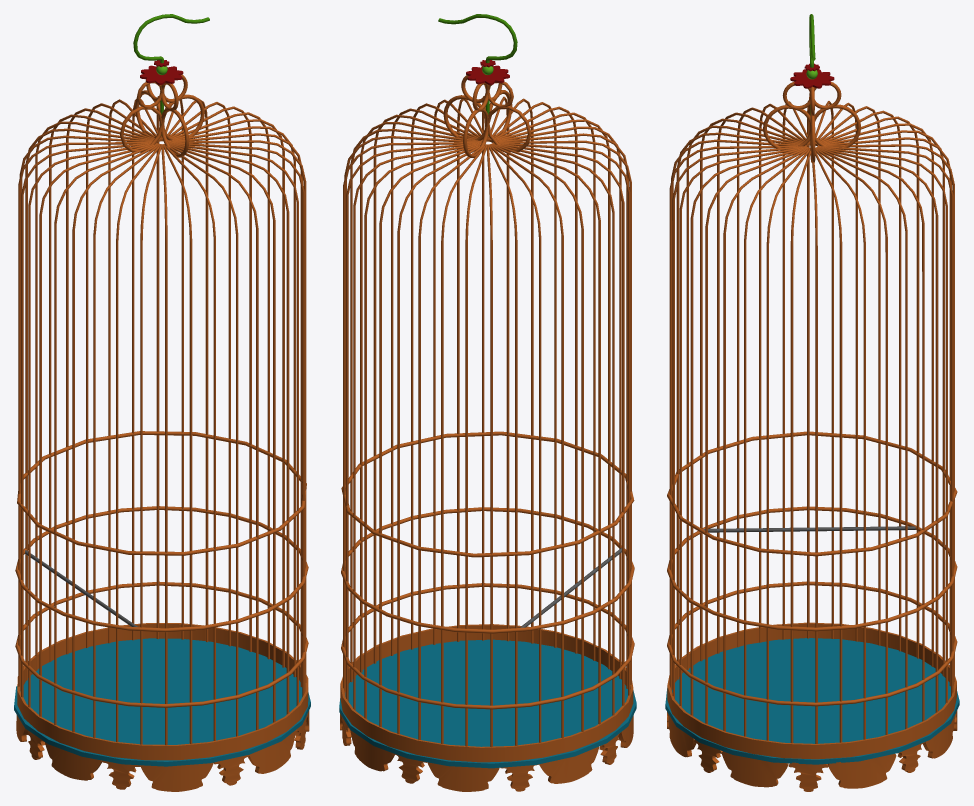
3 renders of one model, left to right at view 1: azimuth 30°, elevation 25°; view 2: azimuth 150°, elevation 25°; view 3: azimuth 270°, elevation 25°, orthographic.
Visible parts, largest first — view 1: Cylinder01, Shape01, Rectangle26, Loft03, Loft02, Loft01, Loft78, Loft53, Loft58, Loft54, Loft76, Loft65 (+33 smaller); view 2: Cylinder01, Shape01, Rectangle26, Loft03, Loft02, Loft01, Loft68, Loft80, Loft56, Loft54, Loft69, Loft65 (+32 smaller); view 3: Cylinder01, Shape01, Rectangle26, Loft03, Loft01, Loft02, Loft54, Loft78, Loft53, Loft64, Loft68, Loft77 (+32 smaller).
Boxes of the visible parts, left/top/right/bottom form: Cylinder01: left=14, top=638, right=310, bottom=766; Shape01: left=17, top=623, right=308, bottom=760; Rectangle26: left=16, top=710, right=309, bottom=791; Loft03: left=17, top=431, right=306, bottom=555; Loft02: left=15, top=506, right=308, bottom=632; Loft01: left=15, top=581, right=308, bottom=707; Loft78: left=169, top=143, right=289, bottom=714; Loft53: left=163, top=144, right=192, bottom=743; Loft58: left=168, top=98, right=208, bottom=642; Loft54: left=156, top=96, right=162, bottom=638; Loft76: left=168, top=142, right=298, bottom=705; Loft65: left=54, top=143, right=157, bottom=724; Cylinder01: left=339, top=639, right=636, bottom=768; Shape01: left=340, top=624, right=633, bottom=762; Rectangle26: left=340, top=713, right=633, bottom=791; Loft03: left=341, top=431, right=634, bottom=557; Loft02: left=341, top=507, right=634, bottom=633; Loft01: left=341, top=583, right=634, bottom=709; Loft68: left=373, top=114, right=482, bottom=663; Loft80: left=487, top=96, right=509, bottom=641; Loft56: left=353, top=143, right=481, bottom=710; Loft54: left=364, top=143, right=481, bottom=718; Loft69: left=492, top=143, right=600, bottom=724; Loft65: left=493, top=142, right=624, bottom=705; Cylinder01: left=665, top=638, right=959, bottom=764; Shape01: left=667, top=622, right=956, bottom=759; Rectangle26: left=667, top=710, right=957, bottom=791; Loft03: left=667, top=431, right=957, bottom=556; Loft01: left=667, top=581, right=957, bottom=706; Loft02: left=667, top=506, right=957, bottom=631; Loft54: left=817, top=146, right=938, bottom=712; Loft78: left=690, top=147, right=807, bottom=715; Loft53: left=676, top=132, right=806, bottom=679; Loft64: left=815, top=151, right=842, bottom=742; Loft68: left=790, top=150, right=811, bottom=743; Loft77: left=816, top=116, right=919, bottom=658.
Size of the model in its own units: 463 by 1235 by 463.
